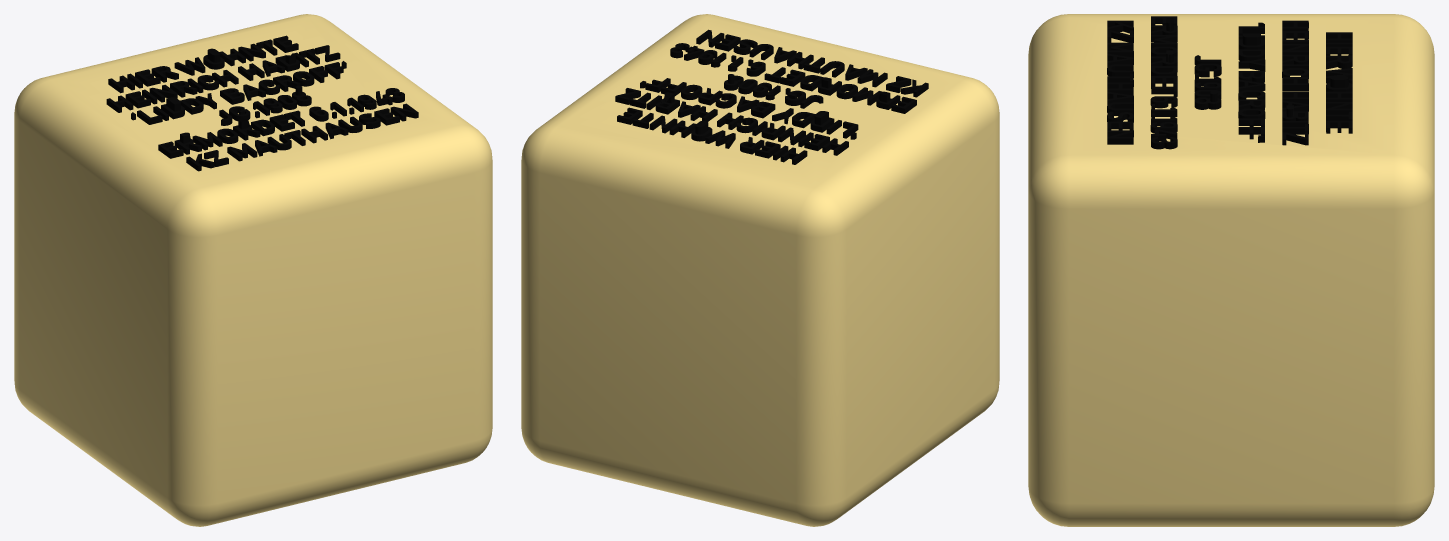
Rendered from Stolperstein11.glb.
The picture shows the model from 3 angles, left to right: view 1: azimuth 30°, elevation 25°; view 2: azimuth 150°, elevation 25°; view 3: azimuth 270°, elevation 25°; orthographic projection. The views are drawn at different scales.
Parts seen in each view (by area): view 1: Cube, Text; view 2: Cube, Text; view 3: Cube, Text.
Part boxes in pixels (left/top/right/bottom): Cube: left=14, top=14, right=492, bottom=526; Text: left=106, top=35, right=418, bottom=171; Cube: left=521, top=14, right=999, bottom=526; Text: left=615, top=29, right=928, bottom=164; Cube: left=1028, top=14, right=1434, bottom=526; Text: left=1107, top=16, right=1352, bottom=149.
Size of the model in its own units: 9.28 by 9.63 by 9.28.
